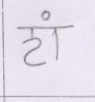anusvara: (41, 11, 51, 20)
